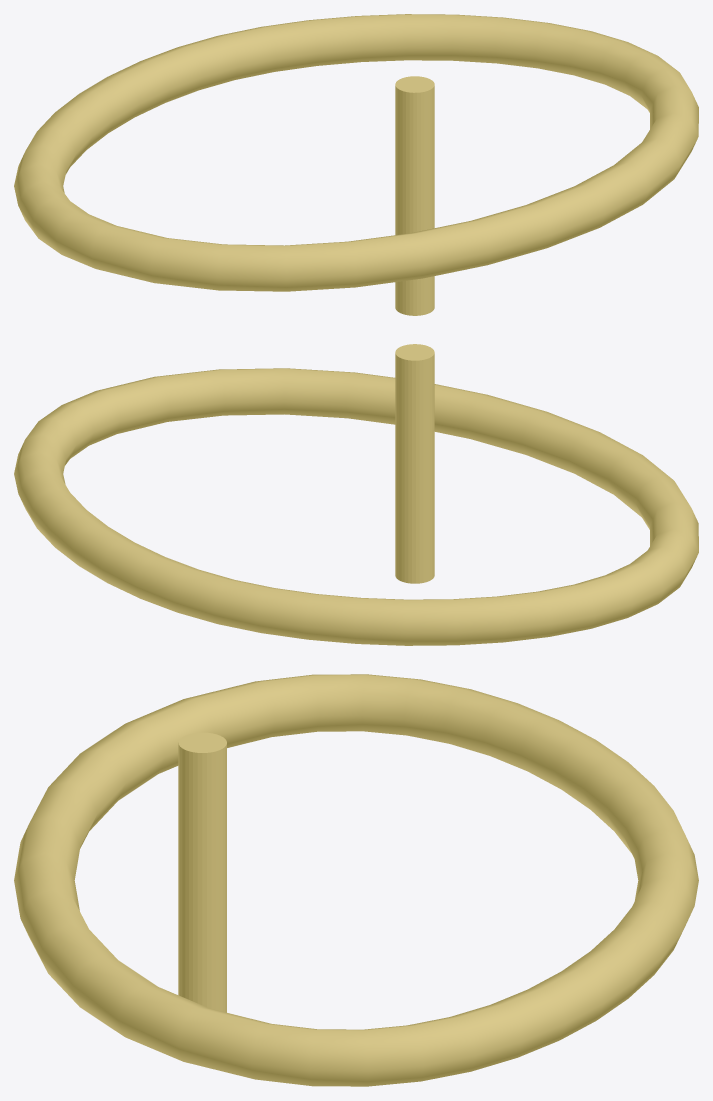
Rendered from scythe.glb.
The picture shows the model from 3 angles, top to bottom: view 1: azimuth 30°, elevation 25°; view 2: azimuth 150°, elevation 25°; view 3: azimuth 270°, elevation 25°; orthographic projection. The views are drawn at different scales.
Visible parts, largest first — view 1: Scythe; view 2: Scythe; view 3: Scythe.
Boxes of the visible parts, box(x1,y1,x2,y2) form: Scythe: box(14, 14, 698, 315); Scythe: box(14, 344, 698, 645); Scythe: box(14, 674, 698, 1086).
Size of the model in its own units: 0.4449 by 0.15 by 0.3382.
